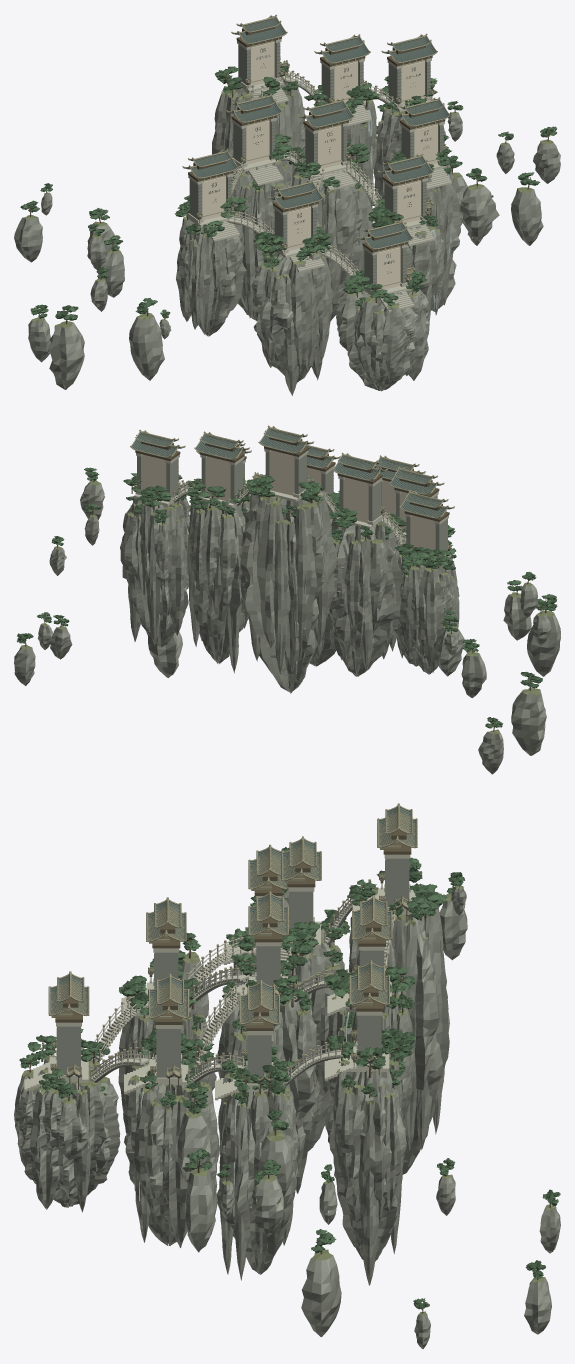
File: cloud-mountains.glb
The picture shows the model from 3 angles, top to bottom: view 1: azimuth 30°, elevation 25°; view 2: azimuth 150°, elevation 25°; view 3: azimuth 270°, elevation 25°; orthographic projection. The views are drawn at different scales.
Parts seen in each view (by area): view 1: Web batch | rock_4, Web batch | rock_3, Web batch | rock_5, Web batch | roofEdge, Web batch | plaster, Web batch | stoneLight, Web batch | rock_6, Web batch | rock_2, Web batch | roof, Web batch | stone, Web batch | leaf_3, Web batch | leaf_0 (+8 smaller); view 2: Web batch | rock_4, Web batch | rock_3, Web batch | rock_5, Web batch | rock_6, Web batch | rock_2, Web batch | roofEdge, Web batch | plaster, Web batch | roof, Web batch | stone, Web batch | rock_7, Web batch | rock_1, Web batch | leaf_3 (+7 smaller); view 3: Web batch | rock_4, Web batch | rock_3, Web batch | rock_5, Web batch | roofEdge, Web batch | stoneLight, Web batch | rock_2, Web batch | rock_6, Web batch | stone, Web batch | roof, Web batch | leaf_3, Web batch | leaf_1, Web batch | wood (+6 smaller).
Part boxes in pixels (x1,y1,x2,y2): Web batch | rock_4: (14, 85, 560, 390); Web batch | rock_3: (16, 76, 558, 389); Web batch | rock_5: (14, 84, 560, 391); Web batch | roofEdge: (182, 14, 450, 286); Web batch | plaster: (202, 41, 437, 289); Web batch | stoneLight: (186, 39, 451, 312); Web batch | rock_6: (33, 92, 560, 387); Web batch | rock_2: (15, 93, 552, 388); Web batch | roof: (186, 17, 449, 280); Web batch | stone: (189, 42, 443, 290); Web batch | leaf_3: (22, 63, 556, 320); Web batch | leaf_0: (21, 65, 548, 318); Web batch | rock_4: (14, 488, 559, 773); Web batch | rock_3: (17, 494, 560, 774); Web batch | rock_5: (14, 483, 560, 770); Web batch | rock_6: (14, 484, 560, 758); Web batch | rock_2: (16, 489, 549, 762); Web batch | roofEdge: (129, 425, 454, 549); Web batch | plaster: (141, 450, 435, 551); Web batch | roof: (131, 427, 451, 549); Web batch | stone: (137, 452, 447, 556); Web batch | rock_7: (37, 500, 548, 682); Web batch | rock_1: (50, 505, 548, 760); Web batch | leaf_3: (17, 467, 556, 727); Web batch | rock_4: (15, 890, 560, 1348); Web batch | rock_3: (15, 891, 557, 1346); Web batch | rock_5: (14, 900, 559, 1348); Web batch | roofEdge: (48, 803, 417, 1081); Web batch | stoneLight: (24, 854, 416, 1100); Web batch | rock_2: (19, 886, 547, 1329); Web batch | rock_6: (14, 900, 559, 1344); Web batch | stone: (57, 858, 409, 1085); Web batch | roof: (50, 807, 416, 1082); Web batch | leaf_3: (21, 848, 560, 1308); Web batch | leaf_1: (19, 863, 559, 1307); Web batch | wood: (27, 830, 550, 1313).
Size of the model in its own units: 61.47 by 36.99 by 43.31.
